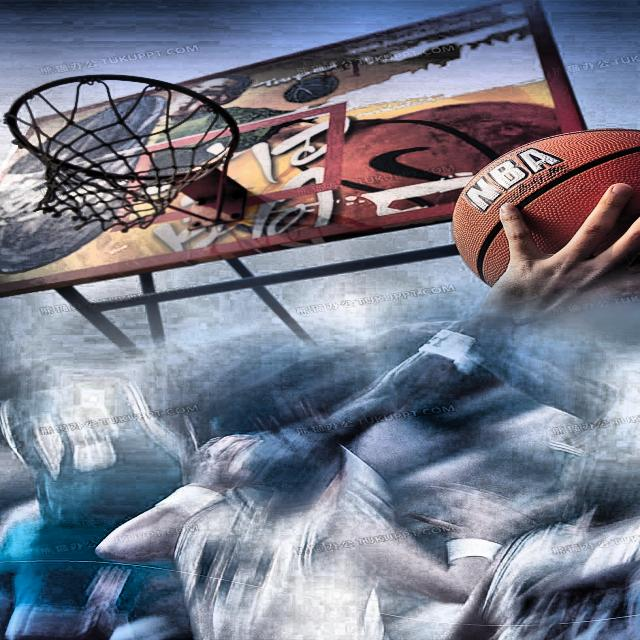rim: (10, 74, 244, 229)
